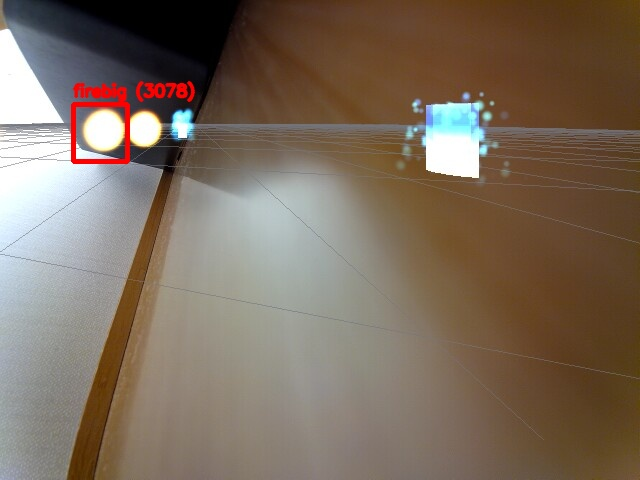firebig: (73, 104, 127, 161)
